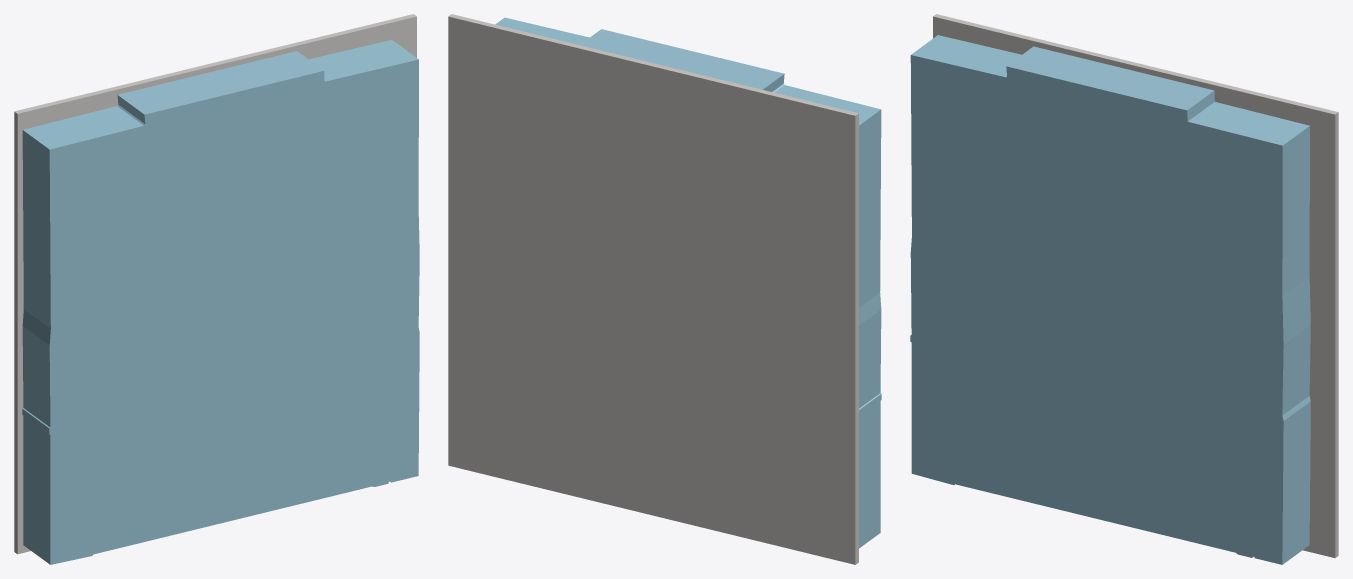
The picture shows the model from 3 angles, left to right: view 1: azimuth 30°, elevation 25°; view 2: azimuth 150°, elevation 25°; view 3: azimuth 330°, elevation 25°; orthographic projection.
Visible parts, largest first — view 1: world; view 2: world; view 3: world.
Boxes of the visible parts, left/top/right/bottom form: world: left=14, top=14, right=419, bottom=564; world: left=448, top=14, right=881, bottom=564; world: left=910, top=14, right=1338, bottom=564.
Size of the model in its own units: 10.23 by 10.78 by 1.35.
